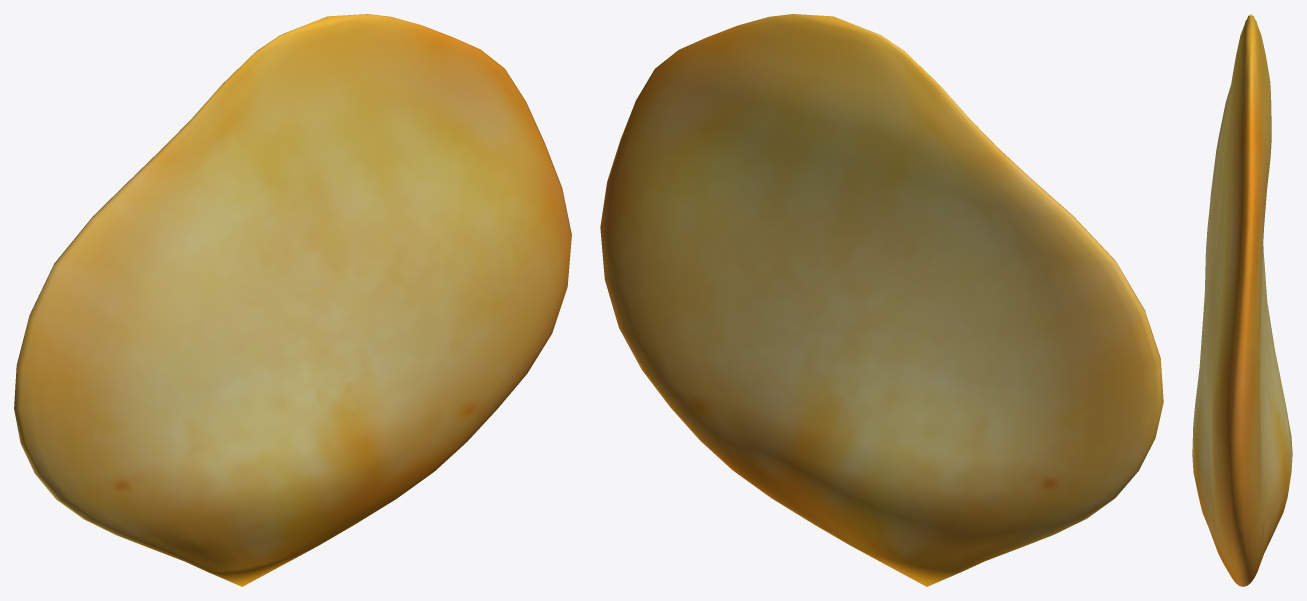
Rendered from Chili_seed.fbx.
3 renders of one model, left to right at view 1: azimuth 30°, elevation 25°; view 2: azimuth 150°, elevation 25°; view 3: azimuth 270°, elevation 25°, orthographic. The views are drawn at different scales.
Parts seen in each view (by area): view 1: pSphere3; view 2: pSphere3; view 3: pSphere3.
Boxes of the visible parts, left/top/right/bottom form: pSphere3: left=14, top=14, right=571, bottom=586; pSphere3: left=600, top=14, right=1163, bottom=586; pSphere3: left=1192, top=14, right=1292, bottom=586.
Bounding box in the file's own units: 3.33 × 3.11 × 0.4912.
